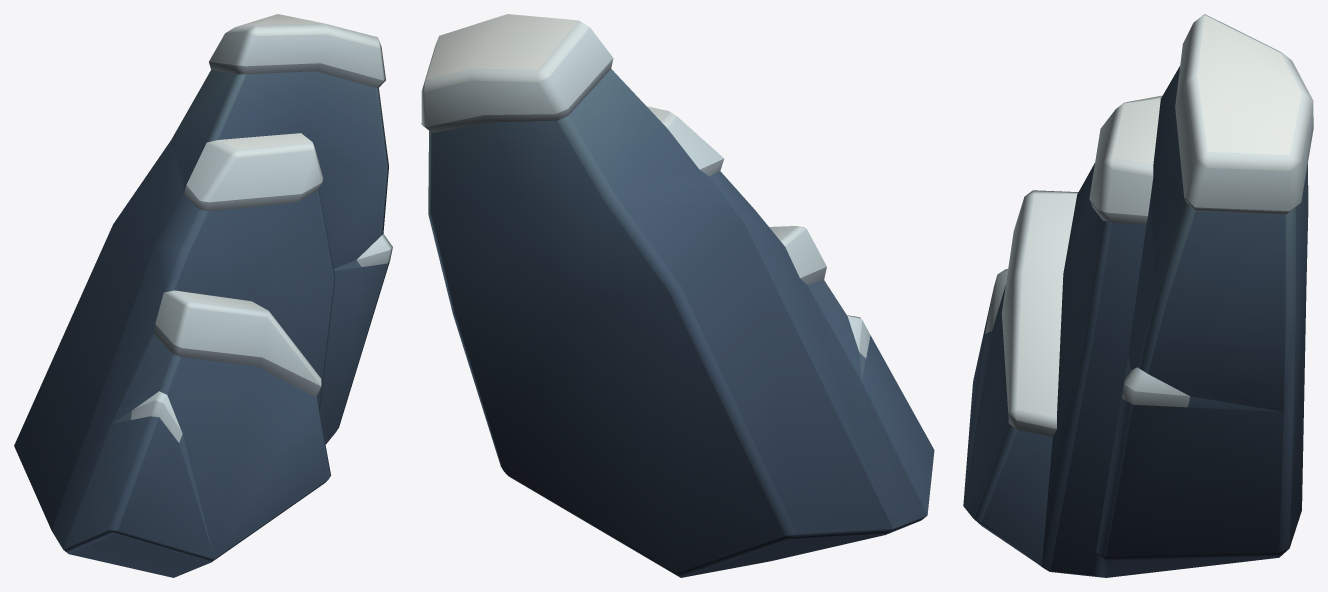
File: rock_snow_028.fbx
3 views of the same model, side by side, from view 1: azimuth 30°, elevation 25°; view 2: azimuth 150°, elevation 25°; view 3: azimuth 270°, elevation 25° (orthographic). The views are drawn at different scales.
Visible parts, largest first — view 1: rock_snow_028; view 2: rock_snow_028; view 3: rock_snow_028.
Boxes of the visible parts, x1,y1,x2,y2 form: rock_snow_028: (14,14,392,577); rock_snow_028: (421,14,934,577); rock_snow_028: (963,14,1313,577).
Bounding box in the file's own units: 624 × 750 × 378.
Materials: 1 (1 with a texture image).
